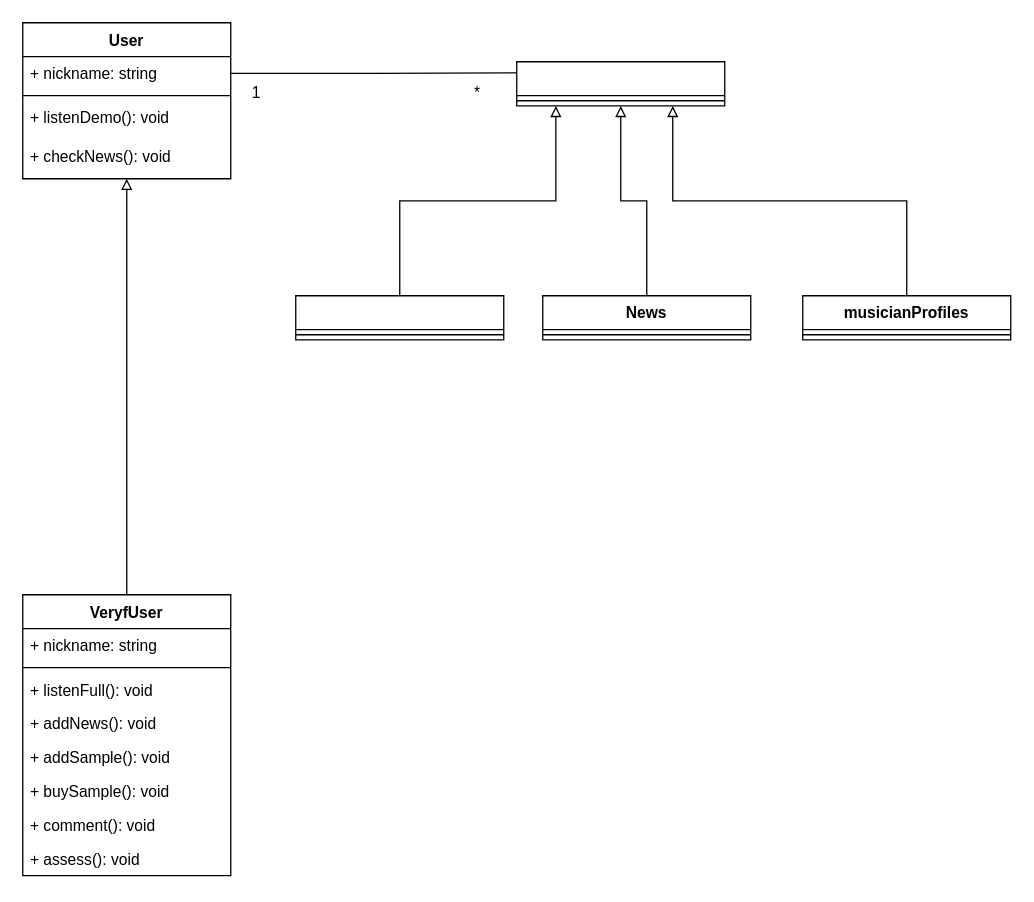
Image size: 1034x902. Some labels were removed from this diagram. Here are the shapes that lost their labels. From the top down, the centre of each, then its label:
(620,83): websiteContent
(399,317): Samples
